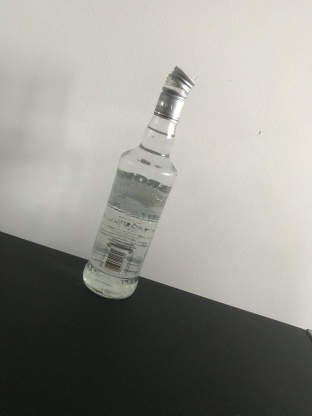nakretka: (152, 64, 196, 124)
